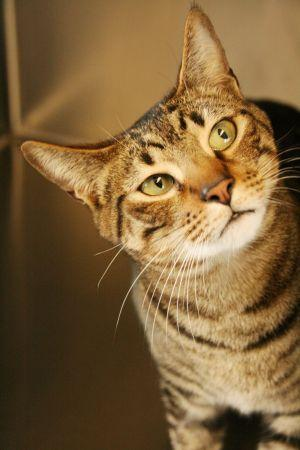bengal: (18, 1, 300, 278)
